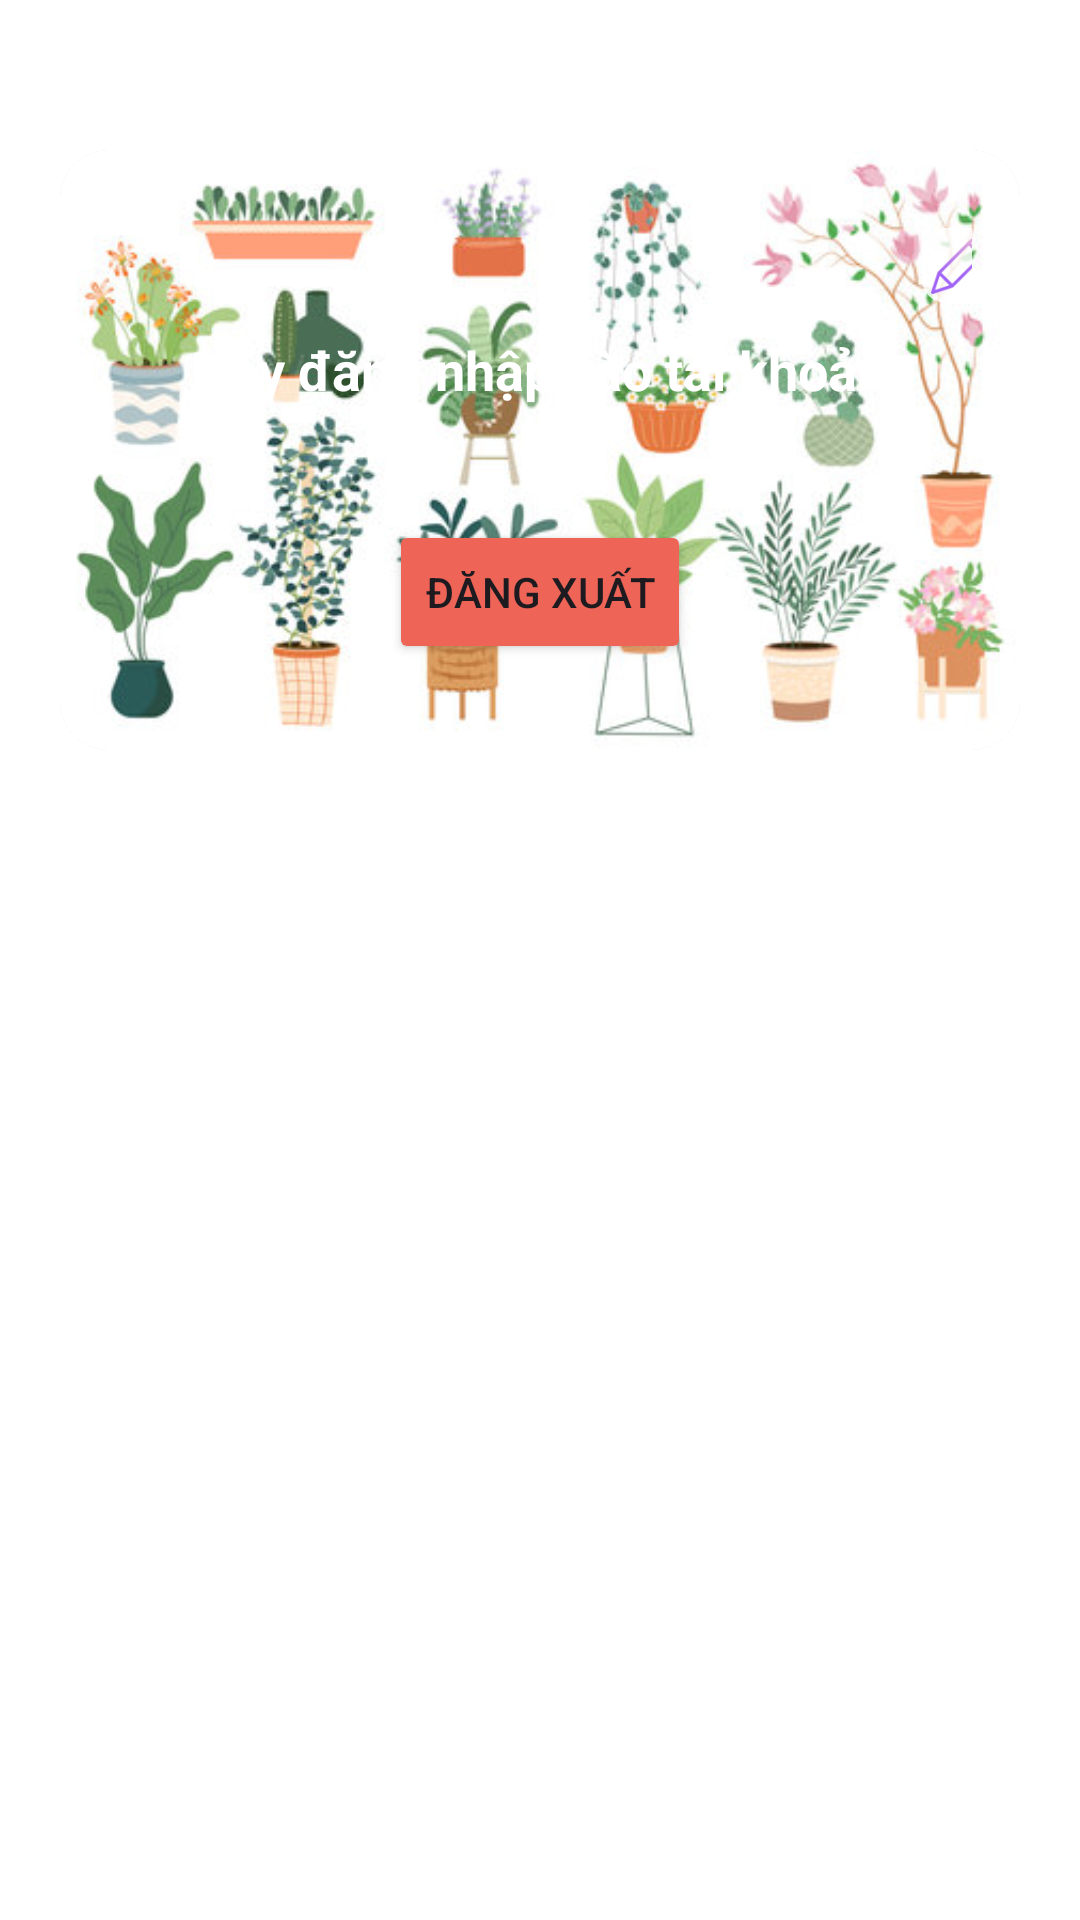

Icon click points for this 1080*1920 phone screenshot, format point (x, y):
edit: point (949, 265)
